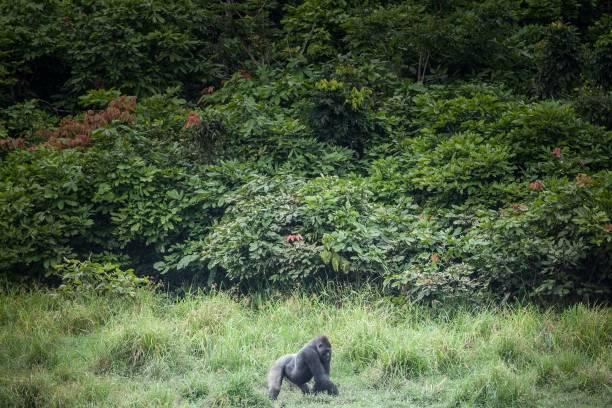gorille_Autres: (265, 316, 343, 399)
